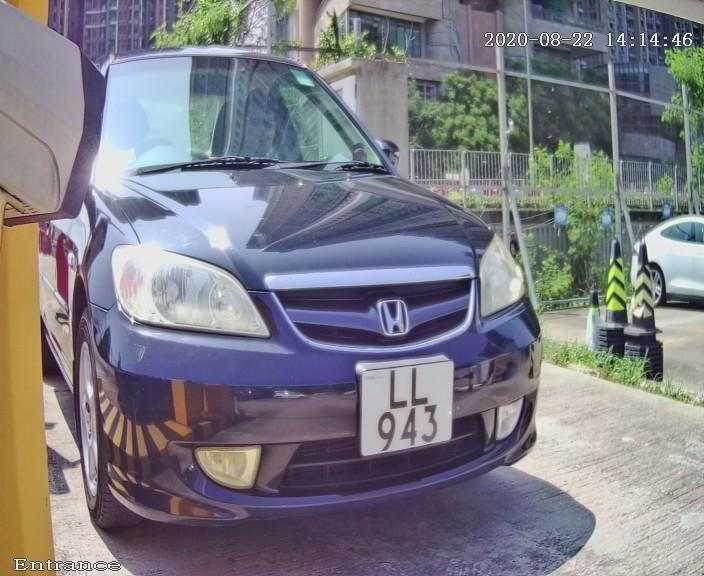Car: (13, 16, 560, 571)
License Plate: (346, 340, 469, 469)
